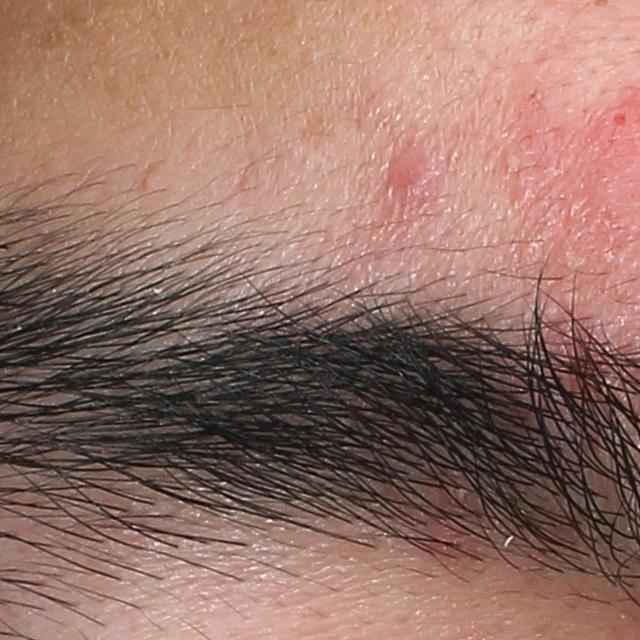papule: (382, 149, 432, 199)
